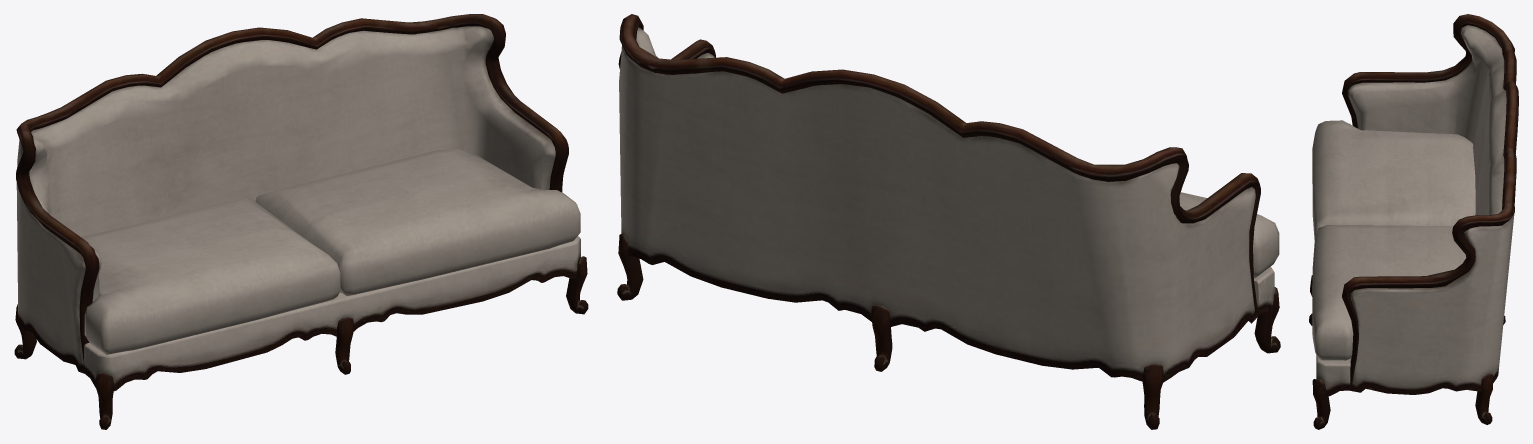
The model's file is Sofa_01.gltf.
The picture shows the model from 3 angles, left to right: view 1: azimuth 30°, elevation 25°; view 2: azimuth 150°, elevation 25°; view 3: azimuth 270°, elevation 25°; orthographic projection. The views are drawn at different scales.
Size of the model in its own units: 1.57 by 0.7953 by 0.6576.
Materials: 1 (1 with a texture image).
